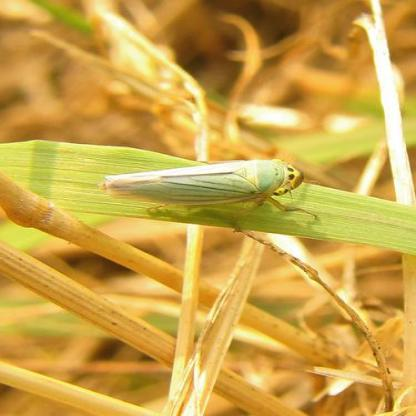Green-Leafhopper: (90, 152, 312, 227)
